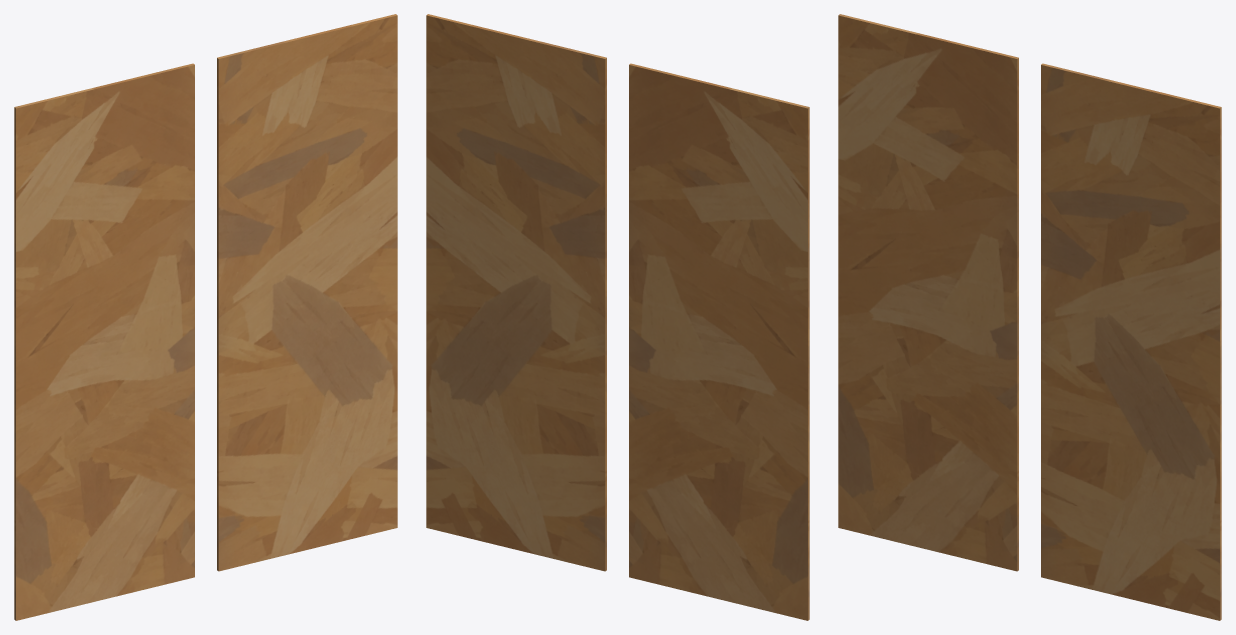
File: WindowGlass.fbx
3 views of the same model, side by side, from view 1: azimuth 30°, elevation 25°; view 2: azimuth 150°, elevation 25°; view 3: azimuth 330°, elevation 25° (orthographic).
Parts seen in each view (by area): view 1: WindowGlass; view 2: WindowGlass; view 3: WindowGlass.
Boxes of the visible parts, <box> form: WindowGlass: <box>14,14,397,620</box>; WindowGlass: <box>426,14,809,620</box>; WindowGlass: <box>838,14,1221,620</box>.
Size of the model in its own units: 0.696 by 0.893 by 0.006.
